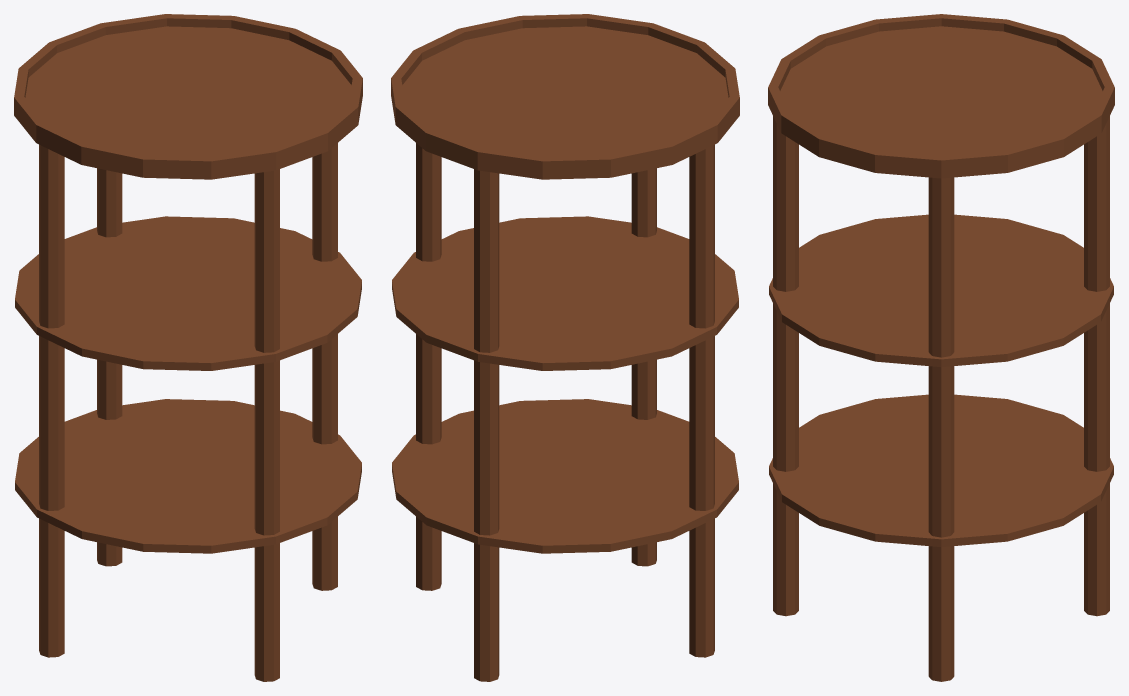
File: tablecorner03.obj
3 renders of one model, left to right at view 1: azimuth 30°, elevation 25°; view 2: azimuth 150°, elevation 25°; view 3: azimuth 270°, elevation 25°, orthographic.
Parts seen in each view (by area): view 1: Cylinder_Cylinder.006; view 2: Cylinder_Cylinder.006; view 3: Cylinder_Cylinder.006.
Part boxes in pixels (left/top/right/bottom): Cylinder_Cylinder.006: left=14, top=14, right=362, bottom=681; Cylinder_Cylinder.006: left=391, top=14, right=739, bottom=681; Cylinder_Cylinder.006: left=768, top=14, right=1114, bottom=681.
Size of the model in its own units: 0.4349 by 0.7246 by 0.4349.
